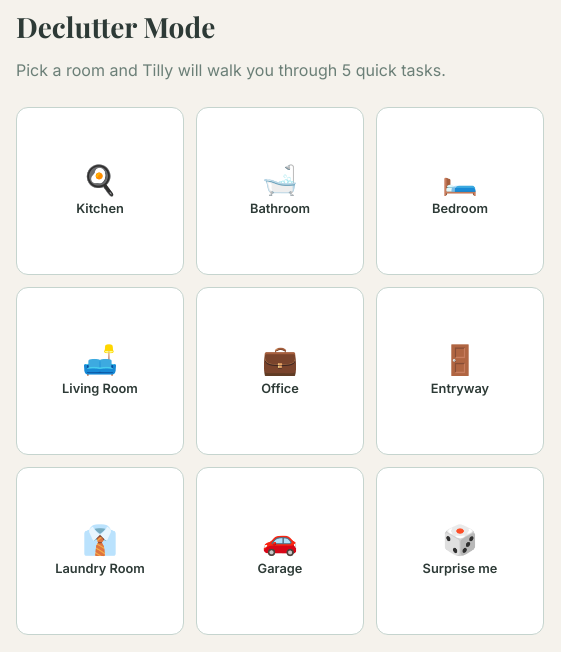
Test case: Declutter › session phase › transitions to task card view after clicking a room
What coordinates should you click on to do the following:
click the button "🍳 Kitchen"
I would click on:
 (100, 191)
Its box is [16,107,184,275].
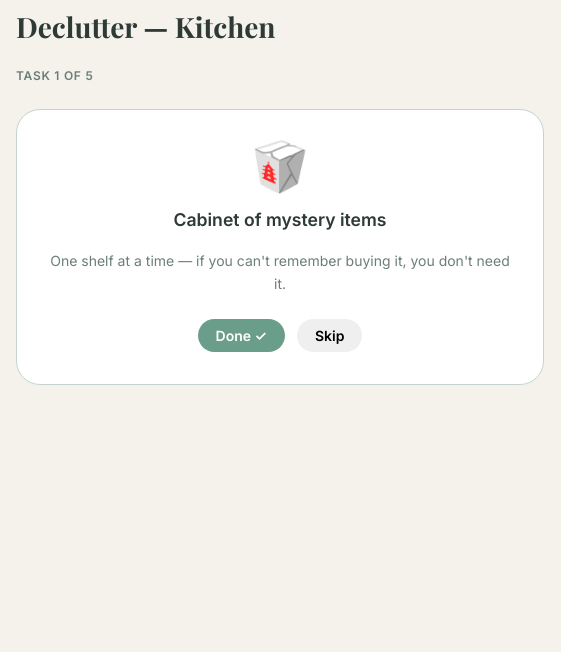
Expected: the text "Task 1 of 5" is shown, [16,68,94,83]
